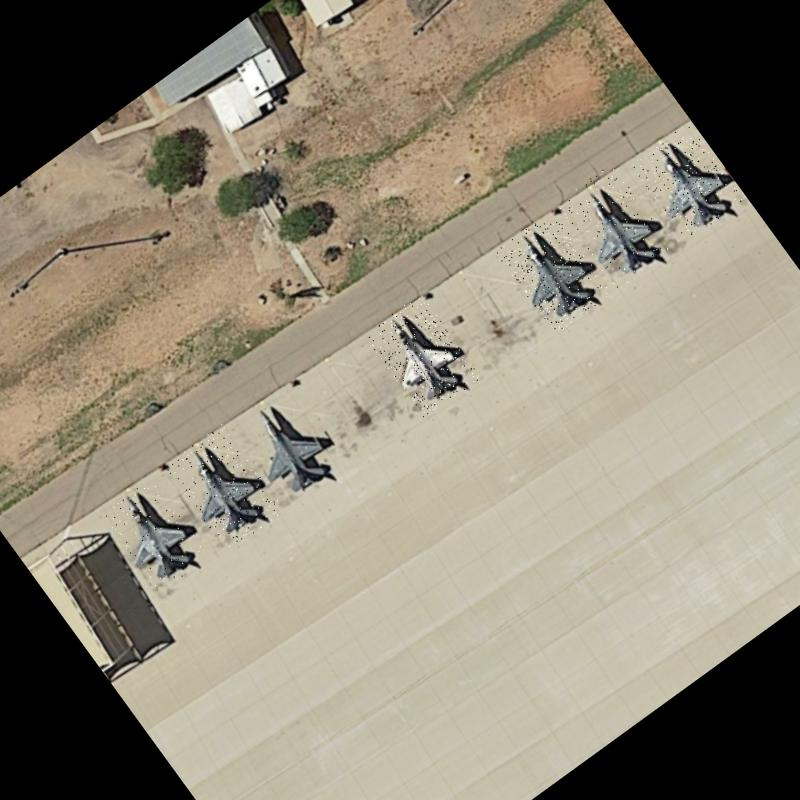A5: (224, 380, 350, 514), (164, 422, 286, 552), (554, 162, 674, 289), (363, 292, 482, 418), (494, 210, 612, 334), (630, 122, 744, 241), (100, 475, 211, 594)
